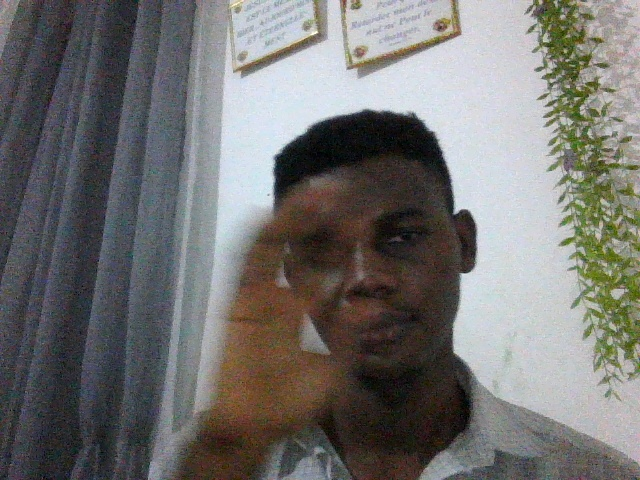hand: (206, 179, 364, 465)
